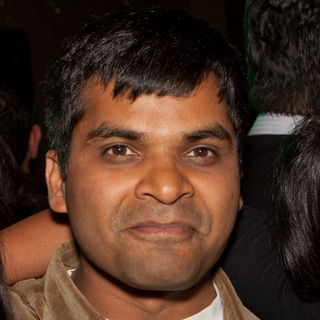eye: (97, 140, 143, 164), (179, 141, 224, 165)
